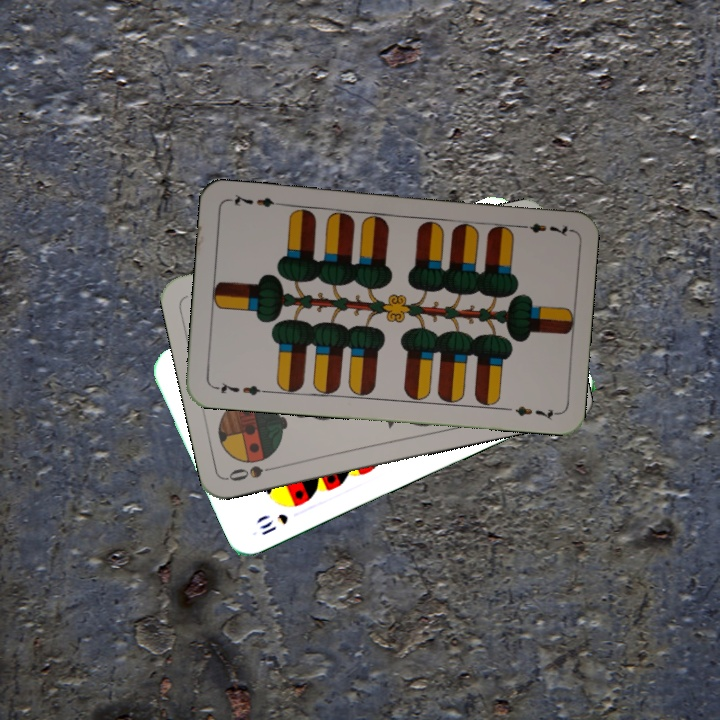E7: (513, 219, 573, 239), (210, 378, 269, 398)
S10: (255, 509, 291, 538)
SO: (224, 461, 283, 484)
